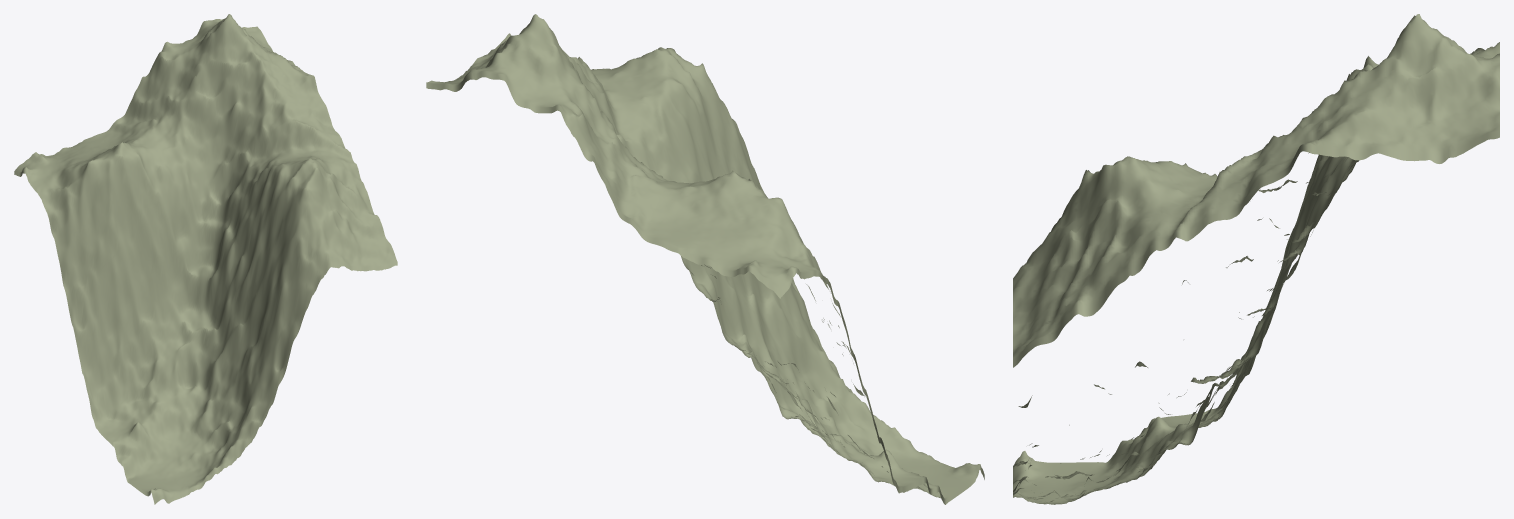
Rendered from terrain_r3_c3_lod0.glb.
3 views of the same model, side by side, from view 1: azimuth 30°, elevation 25°; view 2: azimuth 150°, elevation 25°; view 3: azimuth 270°, elevation 25° (orthographic). The views are drawn at different scales.
Visible parts, largest first — view 1: terrain_r3_c3; view 2: terrain_r3_c3; view 3: terrain_r3_c3.
Part boxes in pixels (x1,y1,x2,y2): terrain_r3_c3: [14, 14, 397, 504]; terrain_r3_c3: [426, 14, 984, 504]; terrain_r3_c3: [1013, 14, 1499, 504].
Bounding box in the file's own units: 50 × 70.98 × 50.
